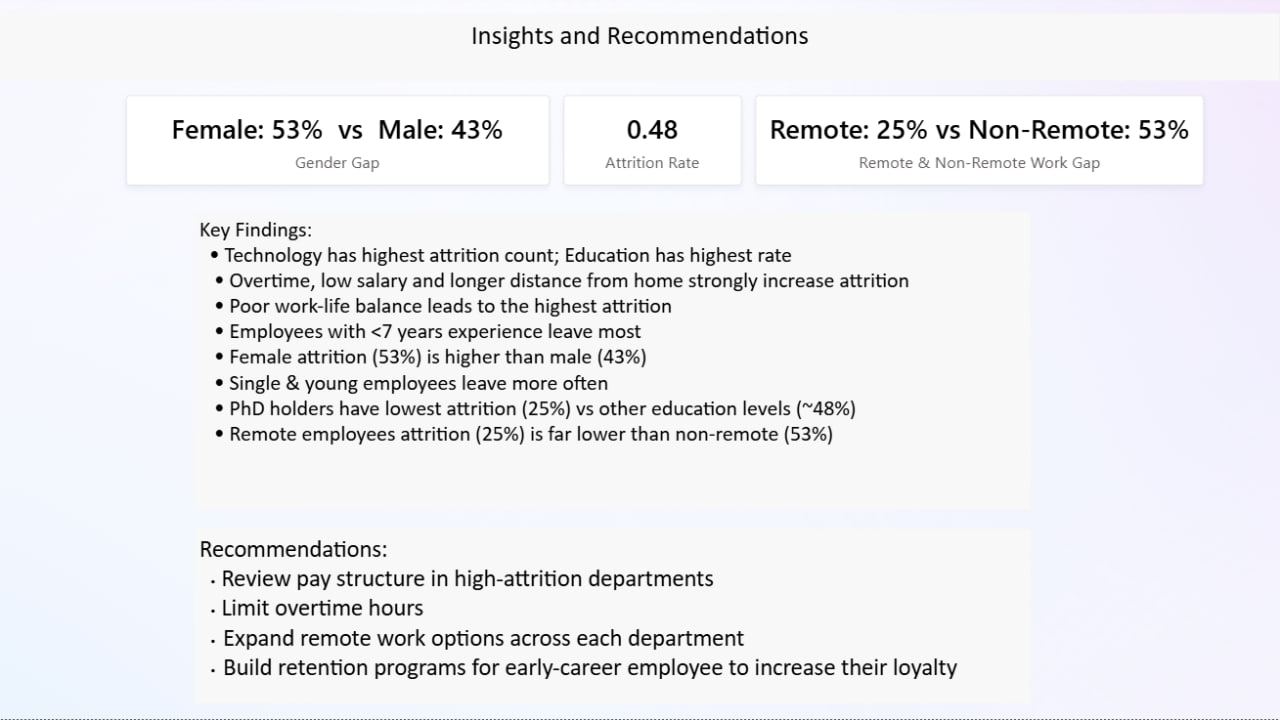

The dashboard page shown, as its layout file describes it:
{"tool":"powerbi","page":{"name":"Insights","canvas":[1280,720],"ordinal":4},"visuals":[{"type":"textbox","box":[0,13.4,1280.3,66.9],"z":0},{"type":"textbox","box":[194.8,211.2,837.2,298.9],"z":1000},{"type":"card","fields":{"Values":["hr_analytics employee_attrition.Attrition Rate"]},"box":[563.6,95.2,178.4,90.7],"z":1001},{"type":"card","fields":{"Values":["hr_analytics employee_attrition.Gender Gap Text"]},"box":[126.4,95.2,423.8,90.7],"z":1003},{"type":"card","fields":{"Values":["hr_analytics employee_attrition.Remote & non-remore work Gap"]},"box":[755.4,95.2,449.1,90.7],"z":1004},{"type":"textbox","box":[194.8,529.4,837.2,175.5],"z":1005}]}

Visuals, with their boxes in screenshot pixels (x1, y1, x2, y2), scaled from the page's 1280x720 canvas onto the 1280x720 screenshot:
textbox: <bbox>0, 13, 1279, 80</bbox>
textbox: <bbox>195, 211, 1032, 510</bbox>
card - hr_analytics employee_attrition.Attrition Rate: <bbox>564, 95, 742, 186</bbox>
card - hr_analytics employee_attrition.Gender Gap Text: <bbox>126, 95, 550, 186</bbox>
card - hr_analytics employee_attrition.Remote & non-remore work Gap: <bbox>755, 95, 1204, 186</bbox>
textbox: <bbox>195, 529, 1032, 705</bbox>
